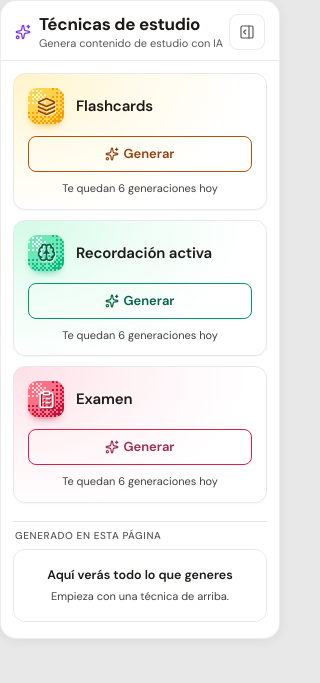
Test: TechniquesPanel › flashcards (real data) › maps AI_DAILY_LIMIT_REACHED to its Spanish message
Step 1. Click the button with test id "generate-flashcards" → (140,154), box left=28, top=136, right=252, bottom=172
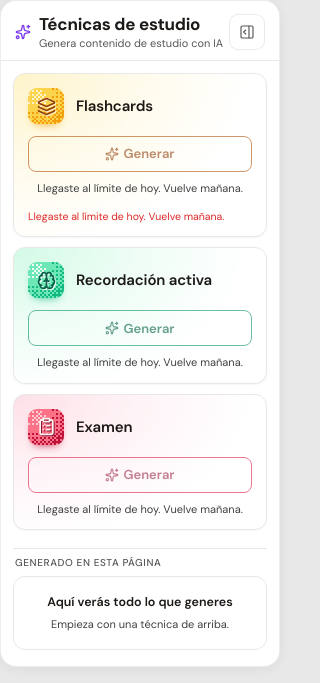
Expected: the message with test id "generation-error" reads "Llegaste al límite de hoy. Vuelve mañana.", left=28, top=210, right=224, bottom=222
